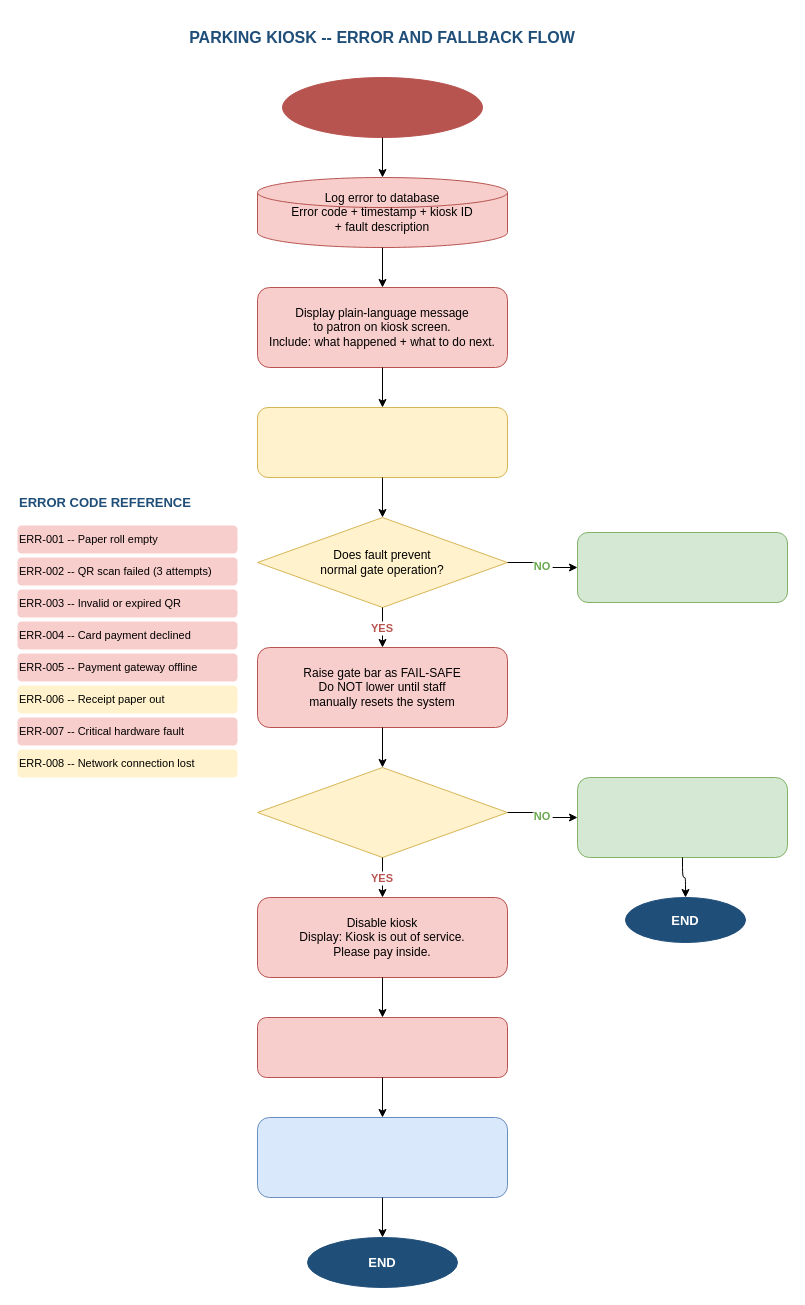
Some shapes in this 805 by 1305 pixel diagram are drawn without their labels. Here are the shapes that lost their labels. From the top down, the centre of each, then its label:
At [382,107]: "FAULT DETECTED".
At [382,442]: "Send alert to admin dashboard Error code + kiosk ID + timestamp + description".
At [682,567]: "Gate operation unaffected. Continue normal operation.".
At [382,812]: "Is this a critical system failure?".
At [682,817]: "Non-critical fault. System remains operational. Staff alerted for maintenance.".
At [382,1047]: "Keep gate bar raised until staff arrives and resets".
At [382,1157]: "Staff arrives Reviews error log Resolves fault Resets kiosk".
